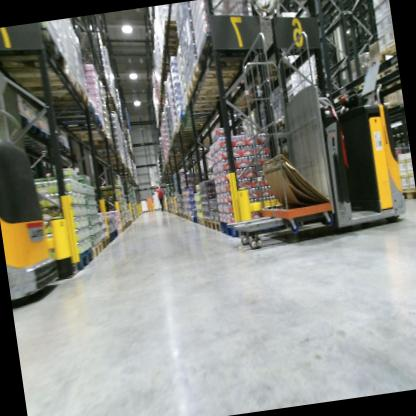pallet: (0, 60, 80, 106), (0, 26, 68, 80), (195, 27, 249, 74), (34, 96, 96, 128), (30, 80, 87, 113), (183, 71, 240, 102), (188, 58, 235, 94), (56, 245, 98, 278), (157, 13, 182, 39), (220, 216, 242, 238), (84, 237, 104, 256), (211, 214, 224, 235), (100, 231, 112, 253), (203, 216, 213, 232), (197, 215, 205, 227), (191, 215, 200, 224)
pallet_truck: (204, 18, 410, 250), (0, 82, 69, 309)
